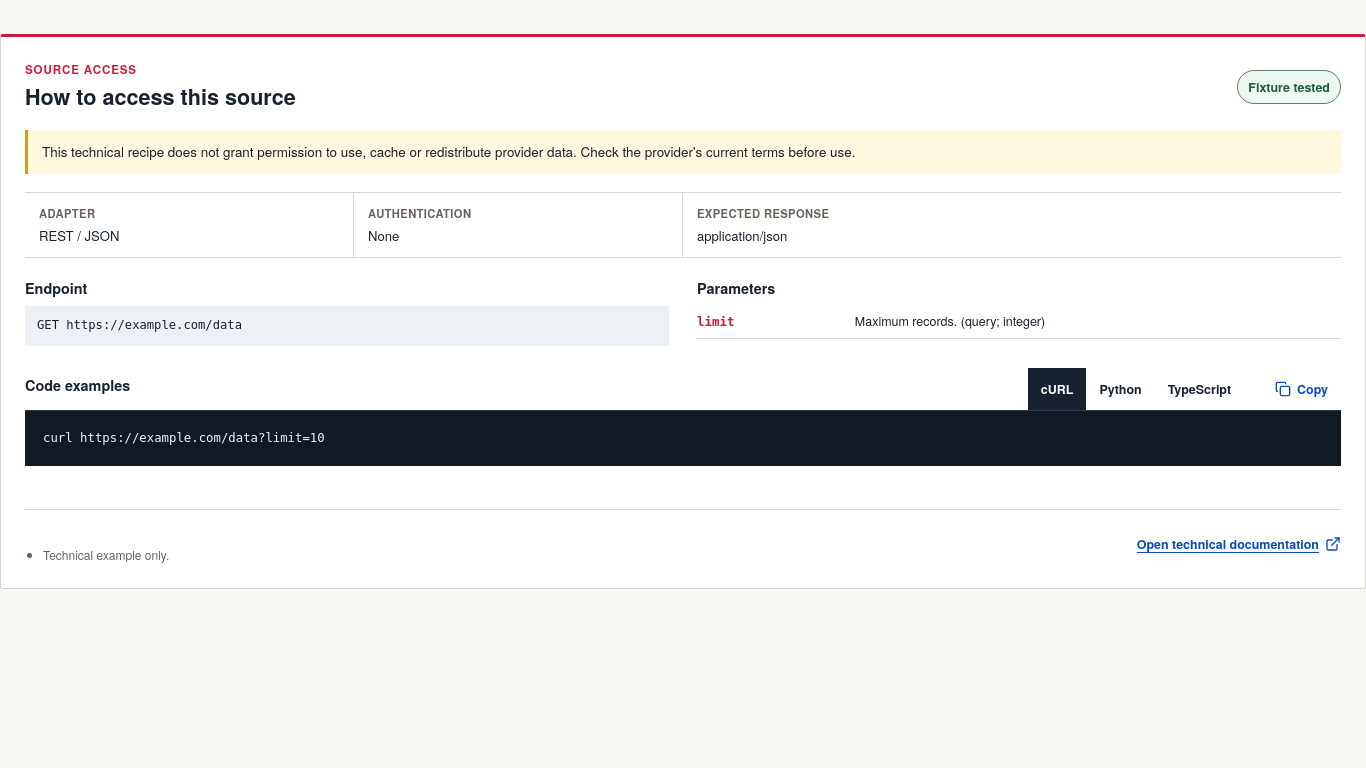
Test: AccessPanel › shows copyable examples and the permission boundary without executing them
Expected: the text "Fixture tested" is shown, x1=1237 y1=70 x2=1341 y2=104
Expected: the text "does not grant permission" is shown, x1=42 y1=142 x2=856 y2=161
Click the tab "Python" at [1121, 389], box x1=1086 y1=368 x2=1155 y2=410
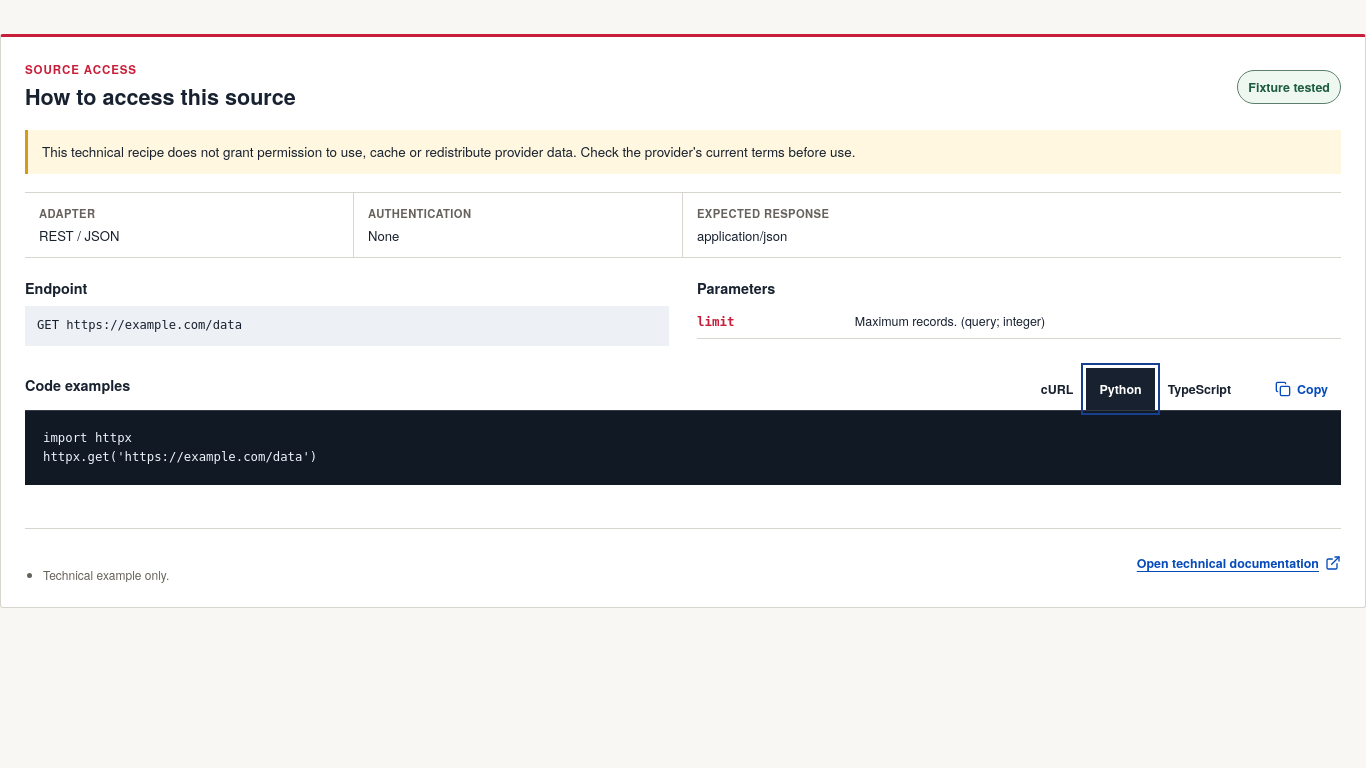
Click the button with aria-label "Copy Python example" at [1302, 389], box x1=1262 y1=368 x2=1341 y2=410
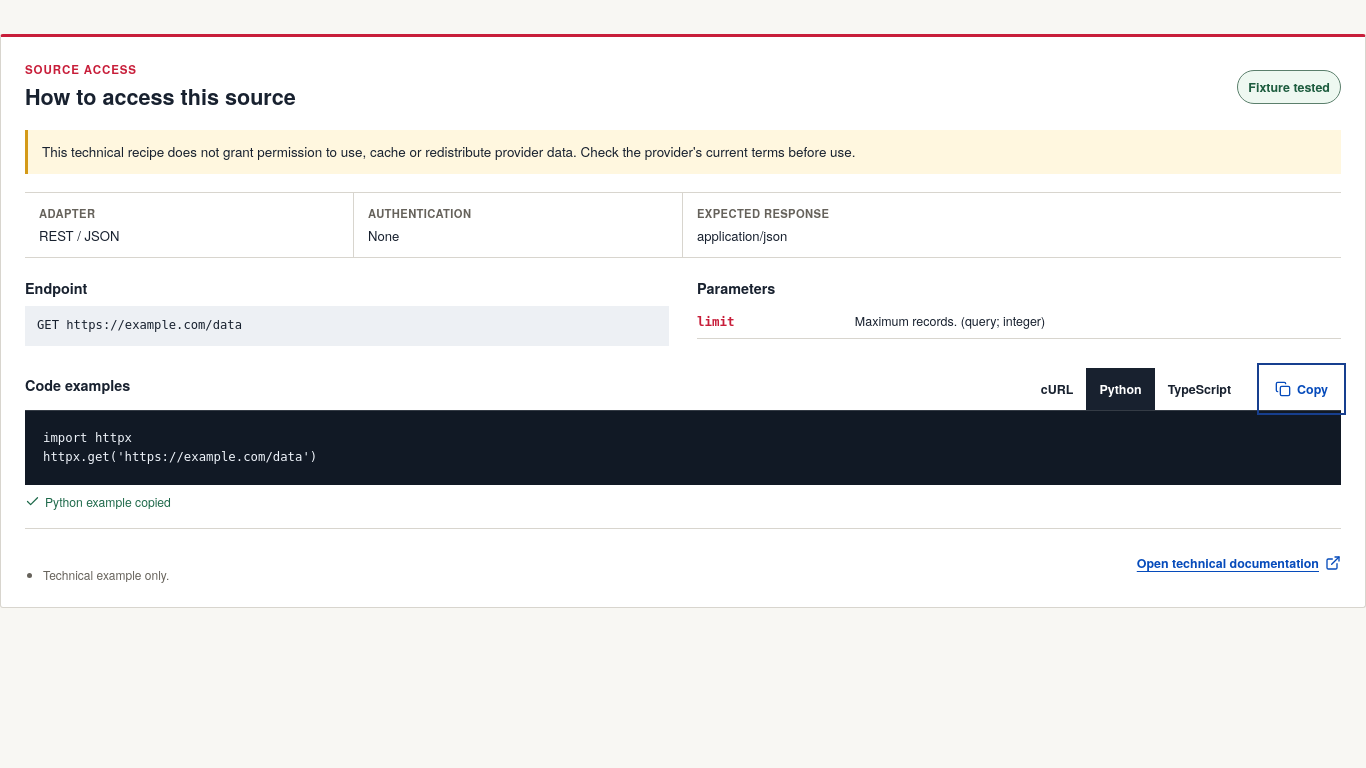
Expected: the message reads "Python example copied", x1=45 y1=493 x2=171 y2=510
